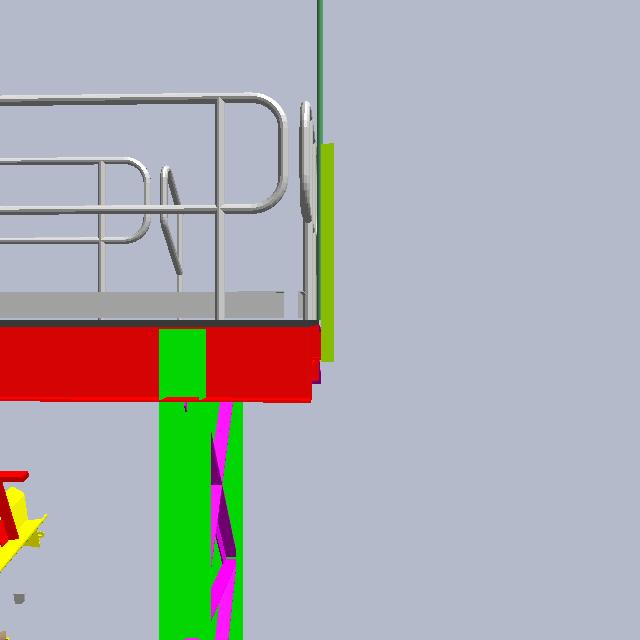Poste: (310, 1, 329, 370)
Soporte: (301, 139, 349, 382)
